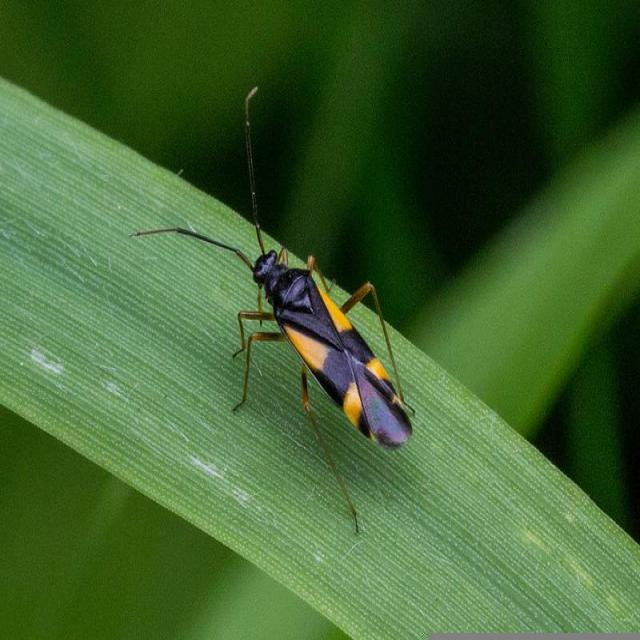Miridae-Adult-: (116, 81, 421, 536)
